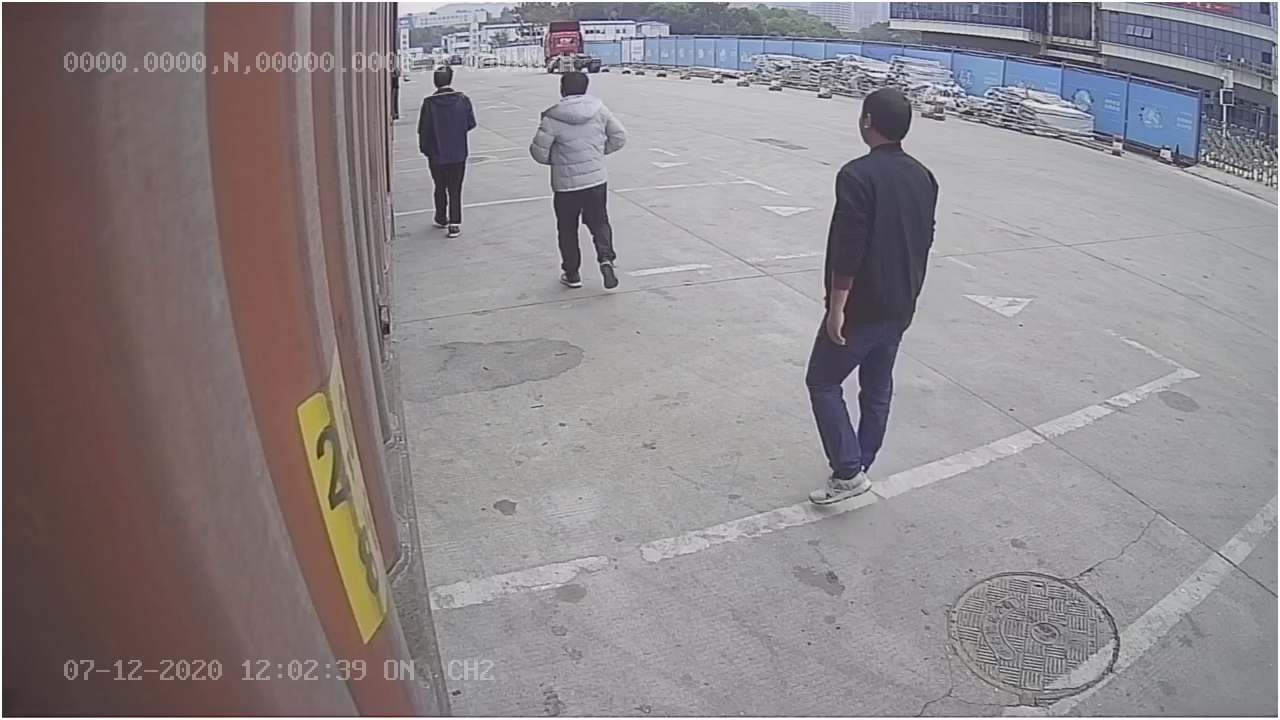person: (802, 81, 940, 511), (530, 65, 630, 293)
